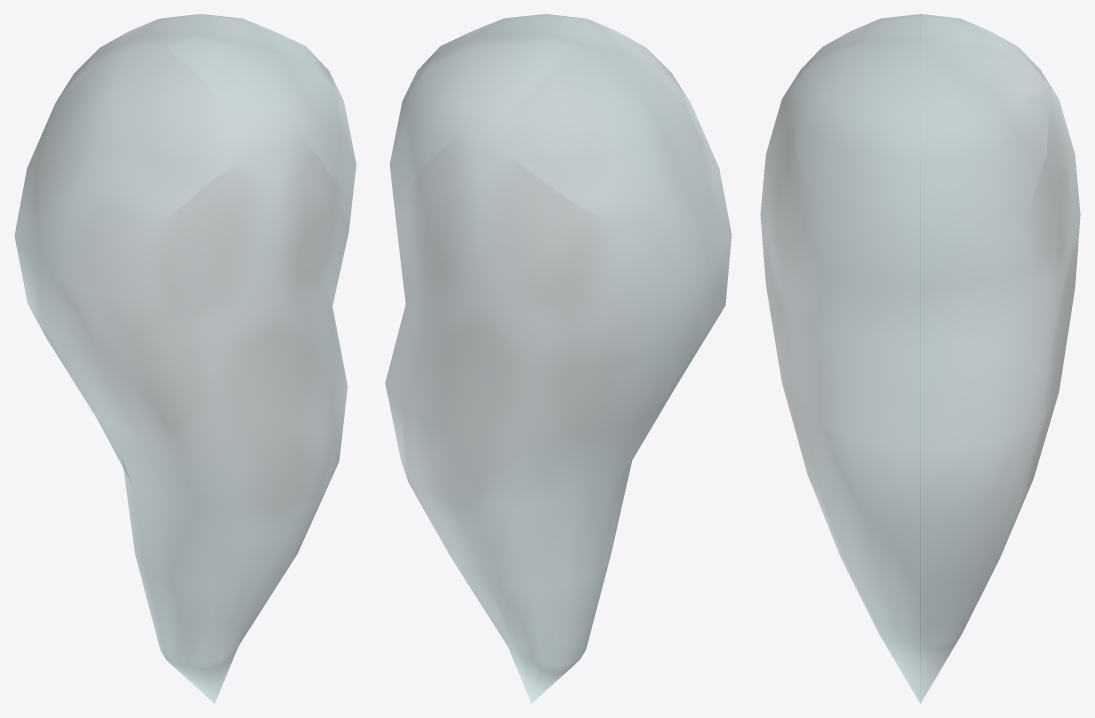
File: SoulsWavySoul02.fbx
3 views of the same model, side by side, from view 1: azimuth 30°, elevation 25°; view 2: azimuth 150°, elevation 25°; view 3: azimuth 270°, elevation 25° (orthographic).
Parts seen in each view (by area): view 1: WavySoul; view 2: WavySoul; view 3: WavySoul.
Boxes of the visible parts, box(x1,y1,x2,y2) form: WavySoul: box(14, 14, 356, 703); WavySoul: box(385, 14, 731, 703); WavySoul: box(760, 14, 1080, 703).
Bounding box in the file's own units: 0.3956 × 0.8412 × 0.3651.
1 material, 1 textured.
